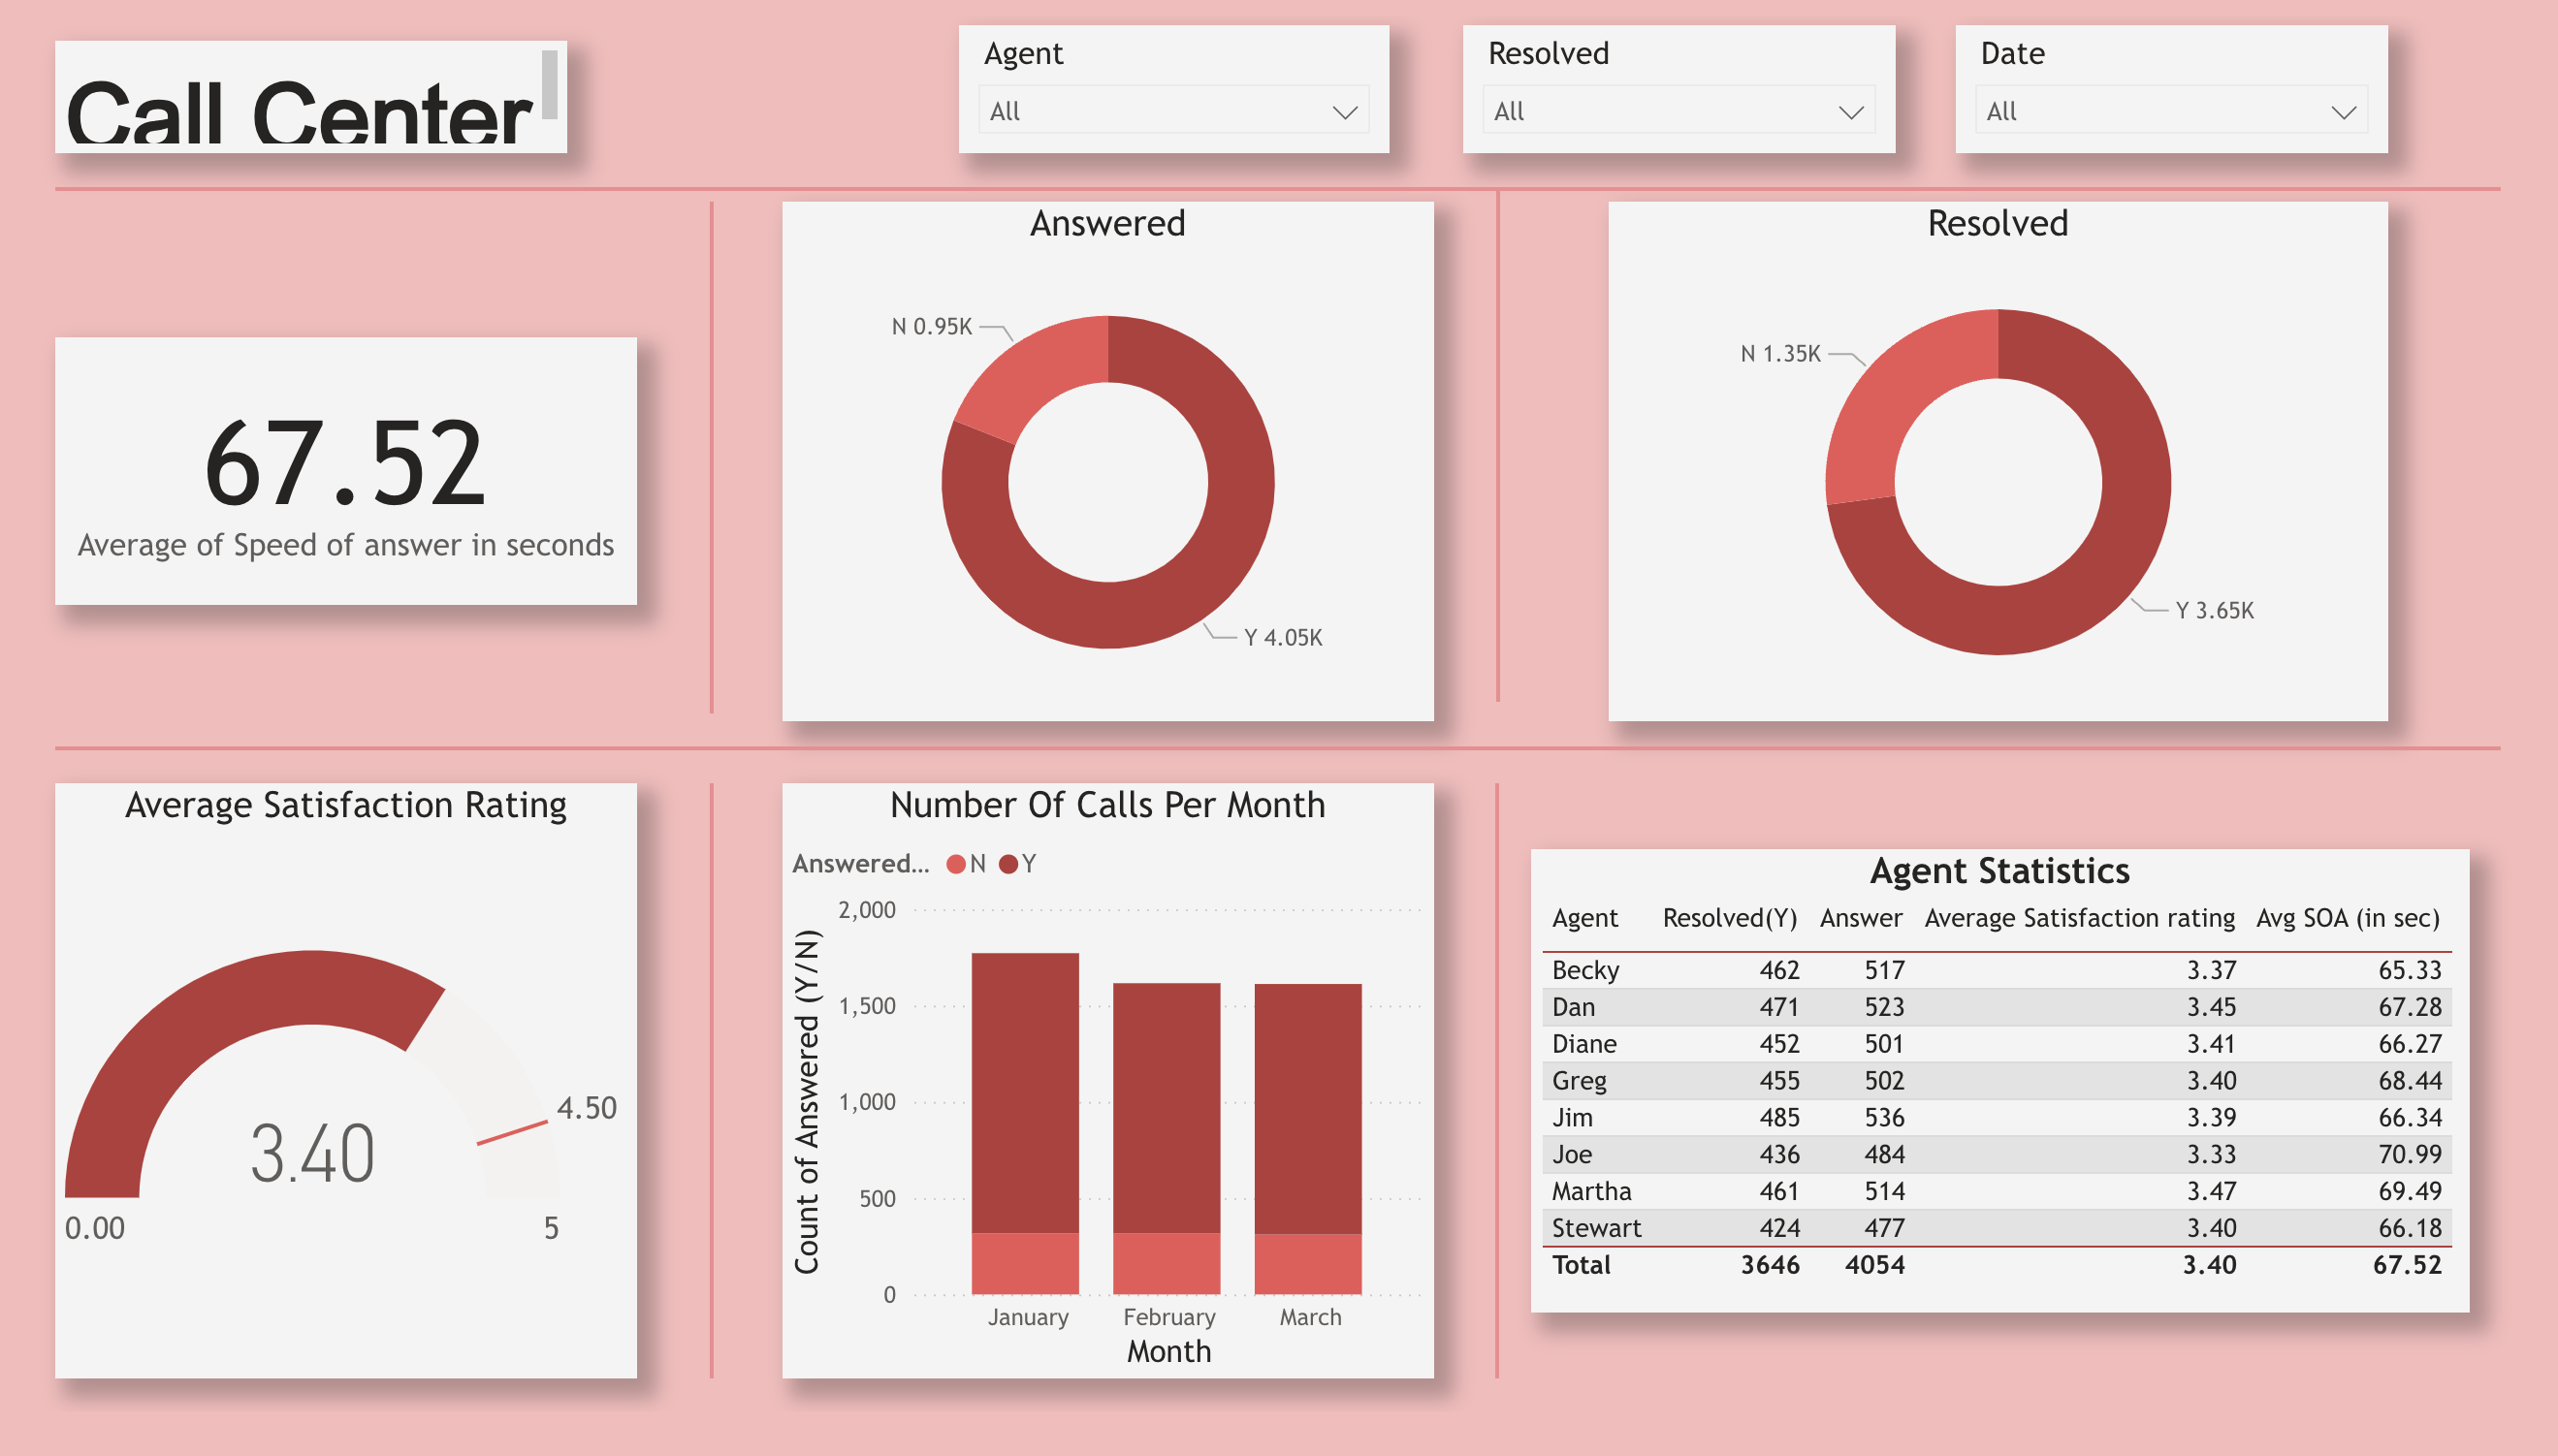

The dashboard page shown, as its layout file describes it:
{"tool":"powerbi","page":{"name":"Page 1","canvas":[1280,720],"ordinal":0},"visuals":[{"type":"slicer","fields":{"Values":["Sheet1.Agent"]},"box":[476.2,5,221.2,66.2],"z":0},{"type":"slicer","fields":{"Values":["Sheet1.Resolved"]},"box":[736.2,5,222.5,66.2],"z":1000},{"type":"slicer","fields":{"Values":["Sheet1.Date"]},"box":[990,5,222.5,66.2],"z":2000},{"type":"gauge","title":"Average Satisfaction Rating","fields":{"Y":["Sheet1.Satisfaction rating"],"MaxValue":["Sheet1.Satisfaction rating"]},"box":[10,396.2,300,306.2],"z":3000},{"type":"donutChart","title":"Answered","fields":{"Category":["Sheet1.Answered (Y/N)"],"Y":["Sheet1.Answered (Y/N)"]},"box":[385,96.2,336.2,267.5],"z":4000},{"type":"donutChart","title":"Resolved","fields":{"Category":["Sheet1.Resolved"],"Y":["Sheet1.Resolved"]},"box":[811.2,96.2,401.2,267.5],"z":5000},{"type":"card","fields":{"Values":["Sheet1.Speed of answer in seconds"]},"box":[10,166.2,300,137.5],"z":6000},{"type":"columnChart","title":"Number Of Calls Per Month","fields":{"Category":["Sheet1.Date.Variation.Date Hierarchy.Month"],"Y":["Sheet1.Answered (Y/N)"],"Series":["Sheet1.Answered (Y/N)"]},"box":[385,396.2,336.2,306.2],"z":7000},{"type":"tableEx","title":"Agent Statistics","fields":{"Values":["Sheet1.Agent","Sheet1.Resolved(Y)","Sheet1.Answer","Sheet1.Satisfaction rating","Sheet1.Speed of answer in seconds"]},"box":[771.2,430,483.8,238.8],"z":8000},{"type":"textbox","box":[10,12.5,263.8,58.8],"z":9000},{"type":"shape","box":[10,71.2,1261.2,36.2],"z":10000},{"type":"shape","box":[10,360,1261.2,36.2],"z":11000},{"type":"shape","box":[331.2,96.2,35,263.8],"z":11001},{"type":"shape","box":[720,90,67.5,263.8],"z":11002},{"type":"shape","box":[331.2,396.2,35,306.2],"z":11003},{"type":"shape","box":[736.2,396.2,35,306.2],"z":11004}]}

Visuals, with their boxes in screenshot pixels (x1, y1, x2, y2), scaled from the page's 1280x720 canvas onto the 2558x1456 screenshot:
slicer - Sheet1.Agent: {"x1": 951, "y1": 10, "x2": 1393, "y2": 144}
slicer - Sheet1.Resolved: {"x1": 1471, "y1": 10, "x2": 1916, "y2": 144}
slicer - Sheet1.Date: {"x1": 1978, "y1": 10, "x2": 2423, "y2": 144}
"Average Satisfaction Rating" gauge: {"x1": 20, "y1": 802, "x2": 620, "y2": 1420}
"Answered" donutChart: {"x1": 769, "y1": 195, "x2": 1441, "y2": 736}
"Resolved" donutChart: {"x1": 1621, "y1": 195, "x2": 2423, "y2": 736}
card - Sheet1.Speed of answer in seconds: {"x1": 20, "y1": 336, "x2": 620, "y2": 615}
"Number Of Calls Per Month" columnChart: {"x1": 769, "y1": 802, "x2": 1441, "y2": 1420}
"Agent Statistics" tableEx: {"x1": 1541, "y1": 870, "x2": 2508, "y2": 1352}
textbox: {"x1": 20, "y1": 25, "x2": 547, "y2": 144}
shape: {"x1": 20, "y1": 144, "x2": 2541, "y2": 217}
shape: {"x1": 20, "y1": 728, "x2": 2541, "y2": 802}
shape: {"x1": 662, "y1": 195, "x2": 732, "y2": 728}
shape: {"x1": 1439, "y1": 182, "x2": 1574, "y2": 715}
shape: {"x1": 662, "y1": 802, "x2": 732, "y2": 1420}
shape: {"x1": 1471, "y1": 802, "x2": 1541, "y2": 1420}
